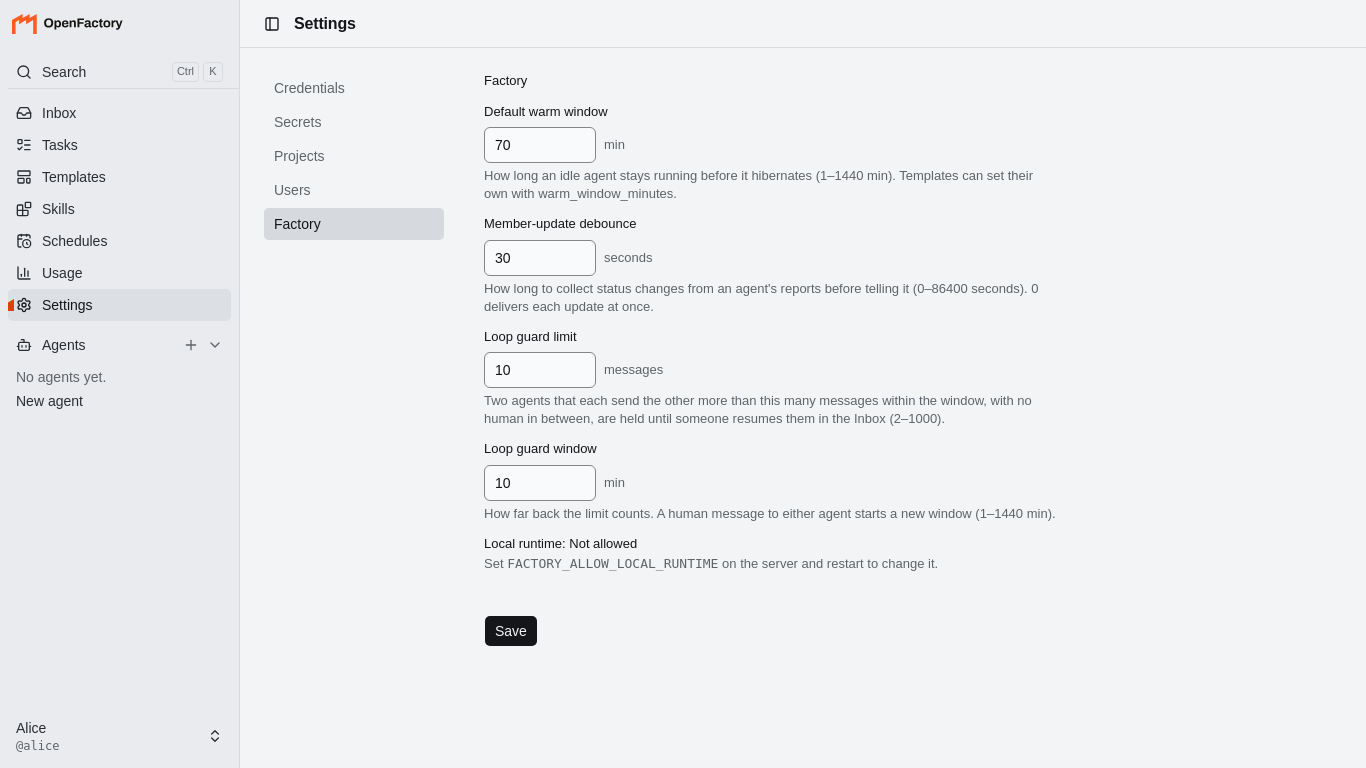
Test case: a failed save says so in an alert
Replace the text in the number field labelled "Default warm window" with "120" at x=540, y=145, box [484, 127, 596, 163]
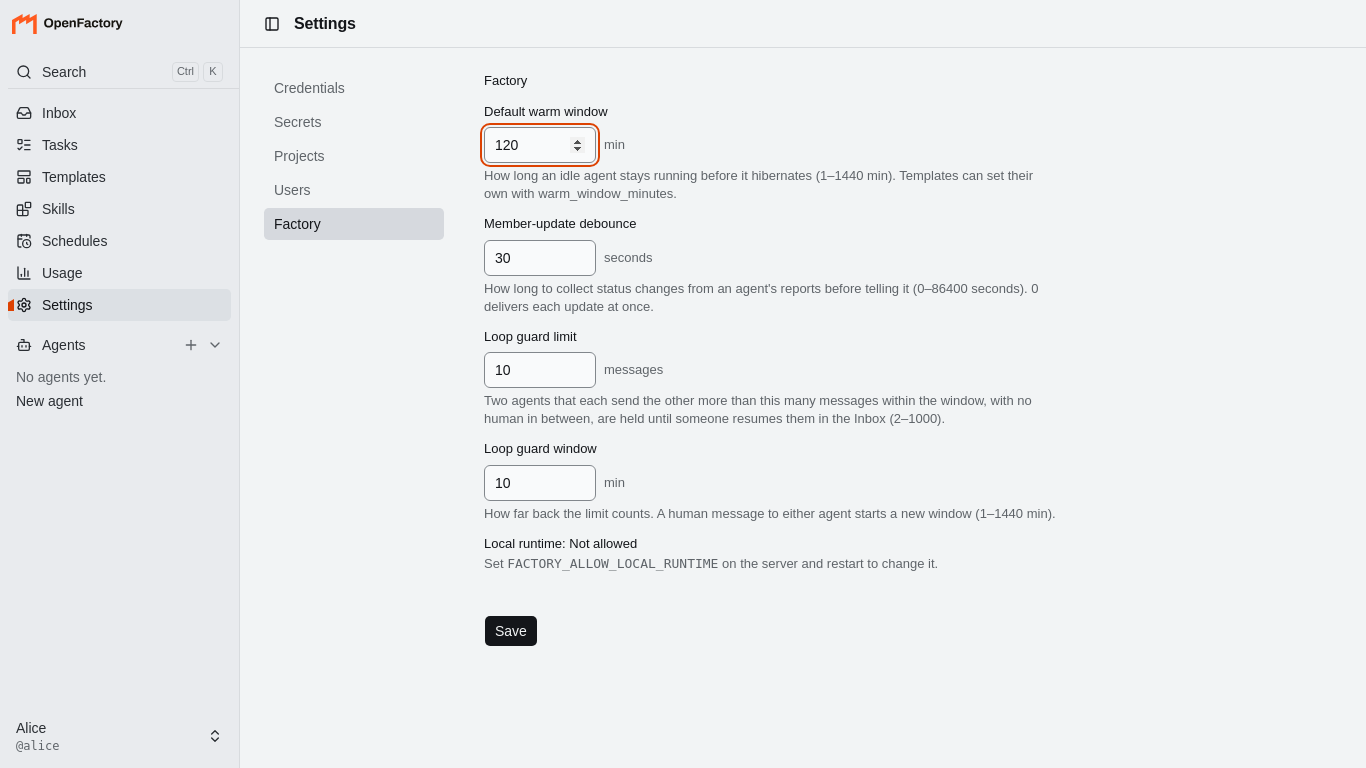
Click the button "Save" at x=511, y=631, box [484, 615, 538, 647]
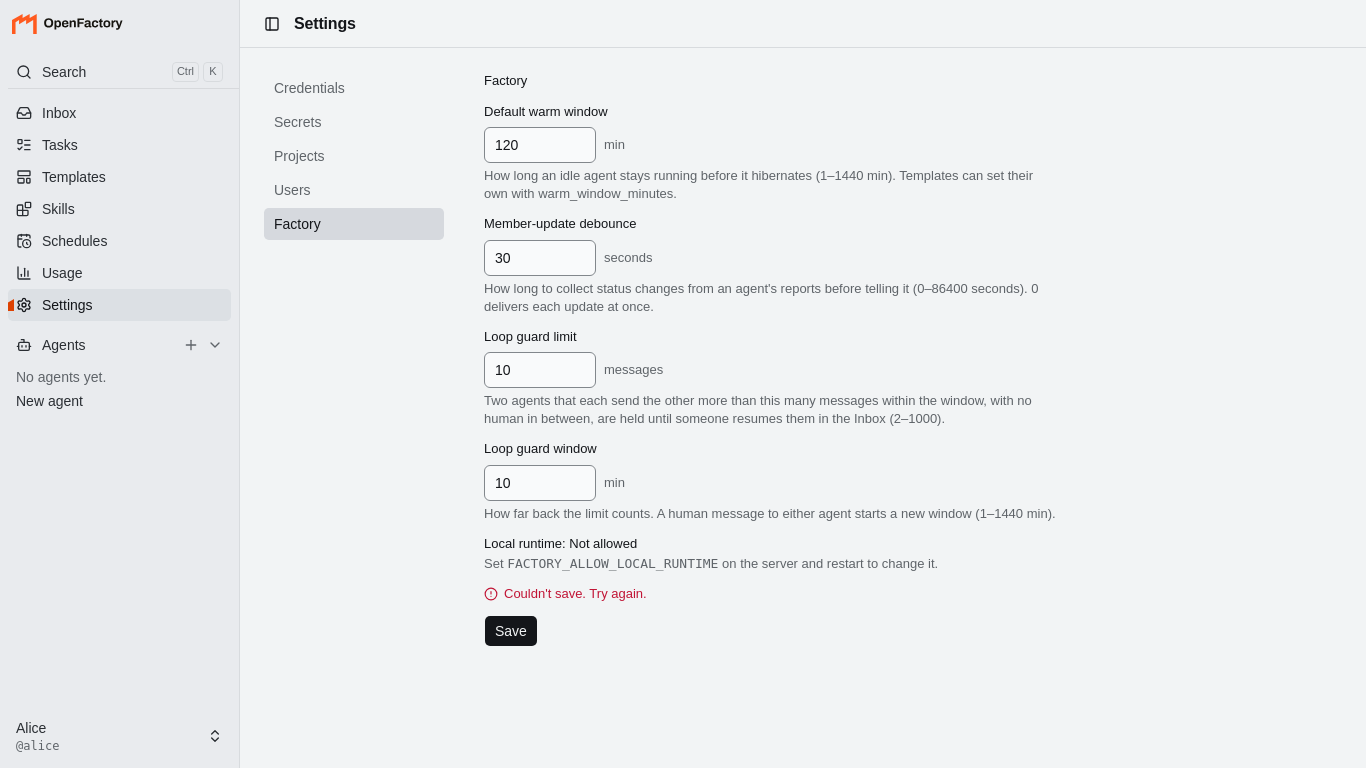
Check: the message "Couldn't save. Try again." is shown, box [484, 586, 647, 601]
